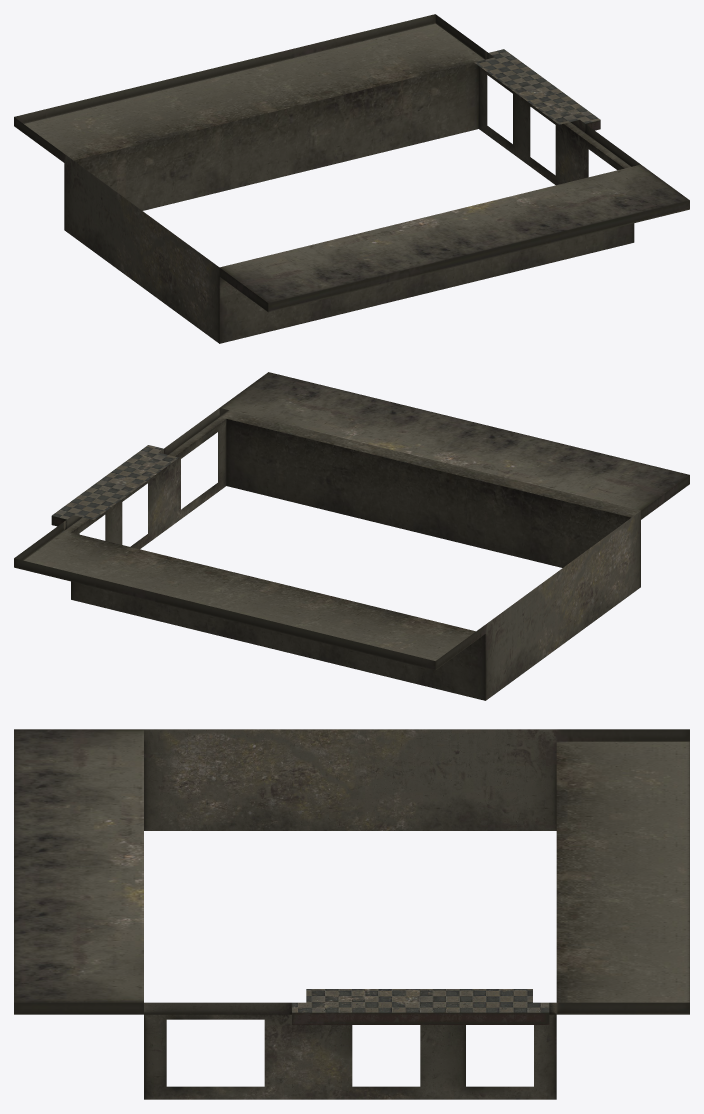
The model's file is GroundBase.FBX.
The picture shows the model from 3 angles, top to bottom: view 1: azimuth 30°, elevation 25°; view 2: azimuth 150°, elevation 25°; view 3: azimuth 270°, elevation 25°; orthographic projection. The views are drawn at different scales.
Visible parts, largest first — view 1: GroundBase; view 2: GroundBase; view 3: GroundBase.
Part boxes in pixels (x1=…): GroundBase: x1=14, y1=14, x2=689, y2=343; GroundBase: x1=14, y1=372, x2=689, y2=700; GroundBase: x1=14, y1=729, x2=689, y2=1099.
Bounding box in the file's own units: 3174 × 531 × 3201.
